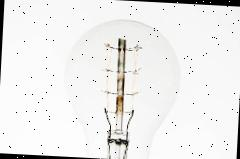lightbulb: (60, 15, 183, 159)
